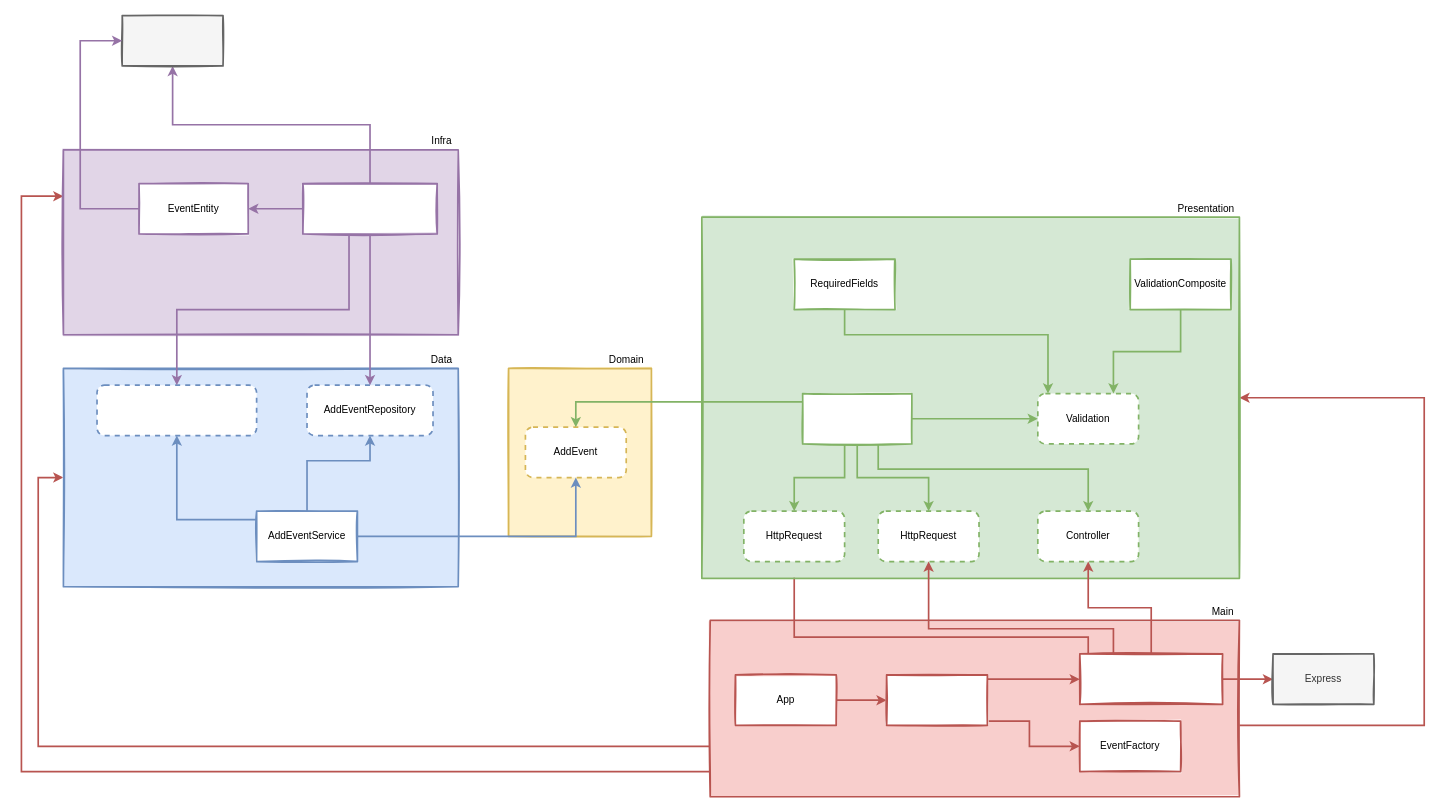
The diagram is 1446 pixels wide and 811 high, and some of its shapes have lost their labels. Each missing label, with the box of its shape:
EventController: (801, 392, 912, 444)
EventPgRepository: (302, 182, 438, 234)
EventRouter: (885, 674, 988, 726)
ExpressRouterAdapter: (1079, 653, 1223, 705)
LoadEventByNameRepository: (96, 384, 257, 436)
TypeOrm: (121, 14, 223, 66)
